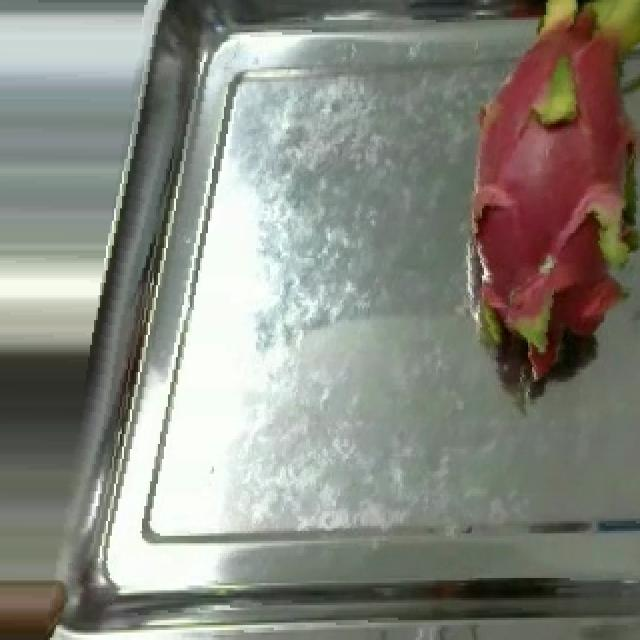Fruit: (0, 558, 78, 640)
